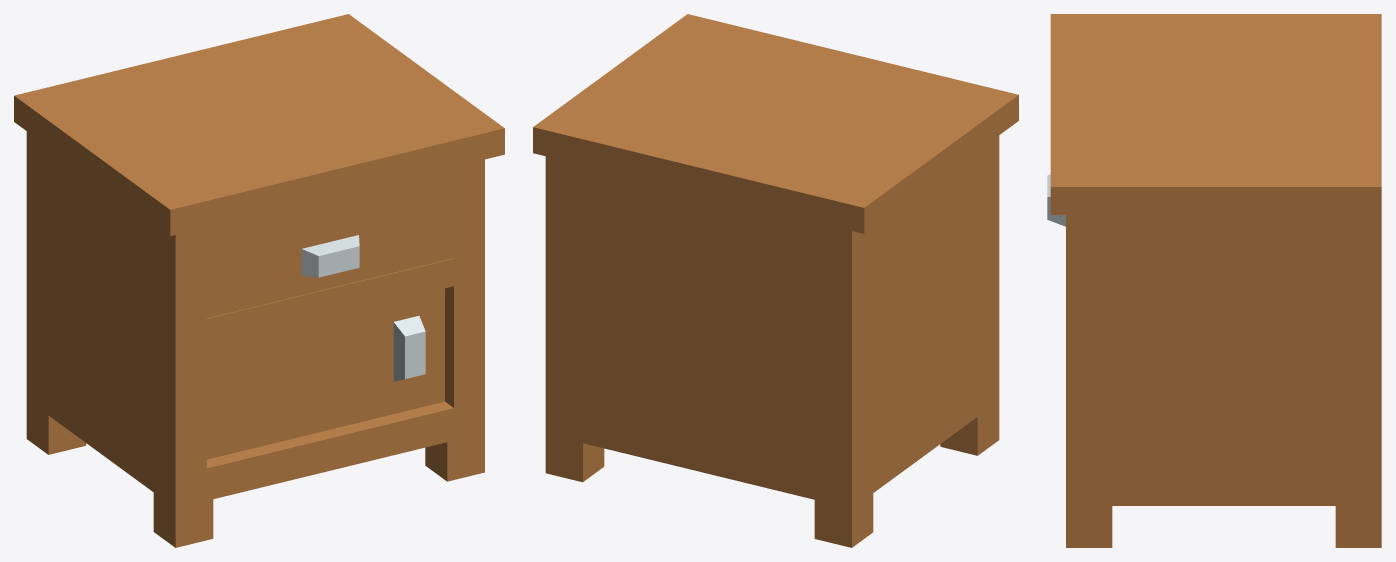
File: cabinet-transformed.glb
3 renders of one model, left to right at view 1: azimuth 30°, elevation 25°; view 2: azimuth 150°, elevation 25°; view 3: azimuth 270°, elevation 25°, orthographic. The views are drawn at different scales.
Parts seen in each view (by area): view 1: Cabinet, door.002, drawer.002; view 2: Cabinet; view 3: Cabinet.
Part boxes in pixels (left/top/right/bottom): Cabinet: left=14, top=14, right=504, bottom=547; door.002: left=206, top=288, right=444, bottom=459; drawer.002: left=206, top=192, right=453, bottom=318; Cabinet: left=533, top=14, right=1018, bottom=547; Cabinet: left=1050, top=14, right=1381, bottom=547.
Size of the model in its own units: 0.9368 by 0.927 by 0.7653.
